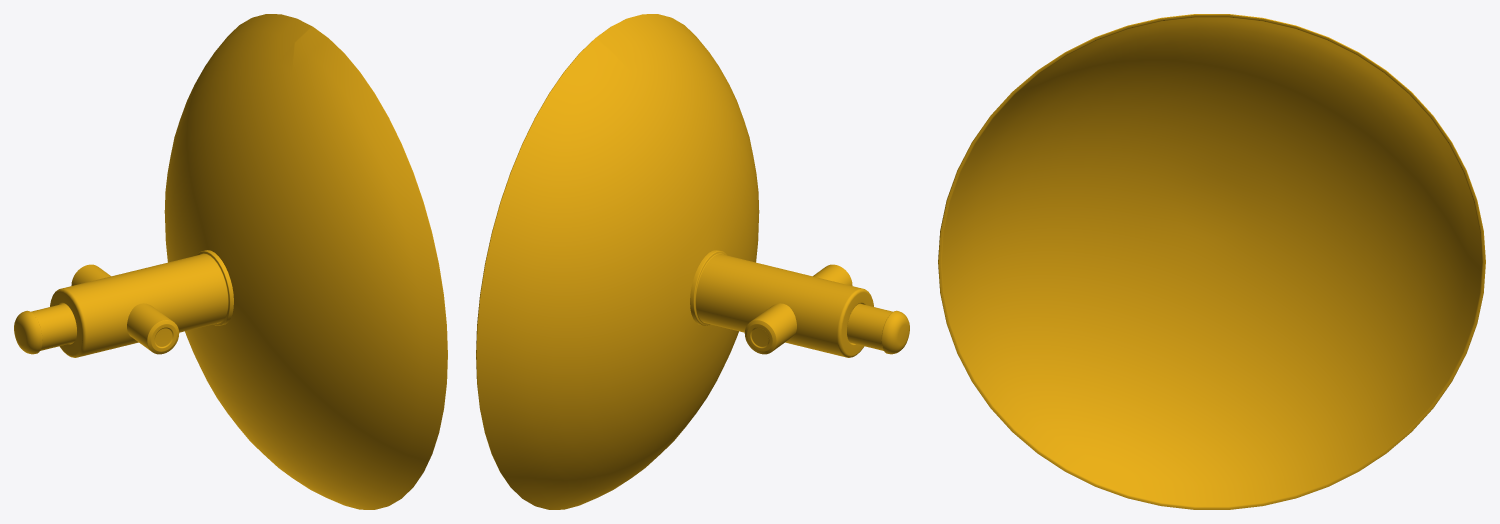
File: SM_Antenna01_part03.fbx
3 renders of one model, left to right at view 1: azimuth 30°, elevation 25°; view 2: azimuth 150°, elevation 25°; view 3: azimuth 270°, elevation 25°, orthographic. The views are drawn at different scales.
Parts seen in each view (by area): view 1: SM_Antenna01_part03; view 2: SM_Antenna01_part03; view 3: SM_Antenna01_part03.
Boxes of the visible parts, bbox=[...] form: SM_Antenna01_part03: bbox=[14, 14, 447, 509]; SM_Antenna01_part03: bbox=[476, 14, 909, 509]; SM_Antenna01_part03: bbox=[938, 14, 1485, 509].
Bounding box in the file's own units: 65.89 × 96.31 × 96.5.
